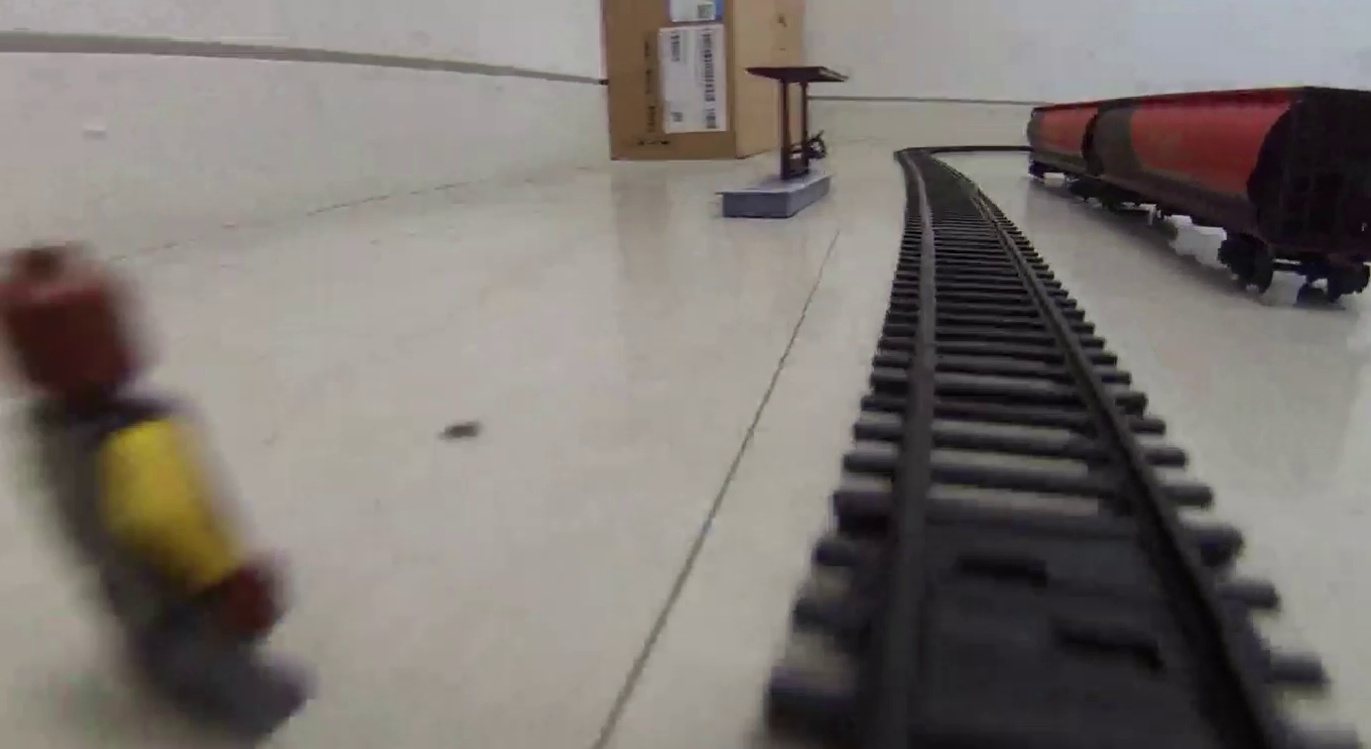people: (2, 244, 317, 744)
